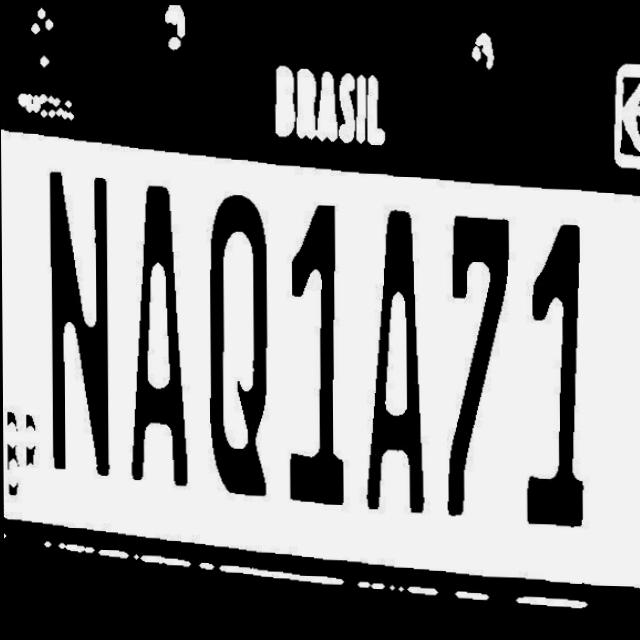1: (523, 198, 595, 527), (296, 193, 360, 526)
7: (443, 189, 515, 522)
a: (121, 173, 197, 507), (373, 191, 444, 527)
n: (38, 163, 118, 493)
q: (204, 177, 279, 521)
